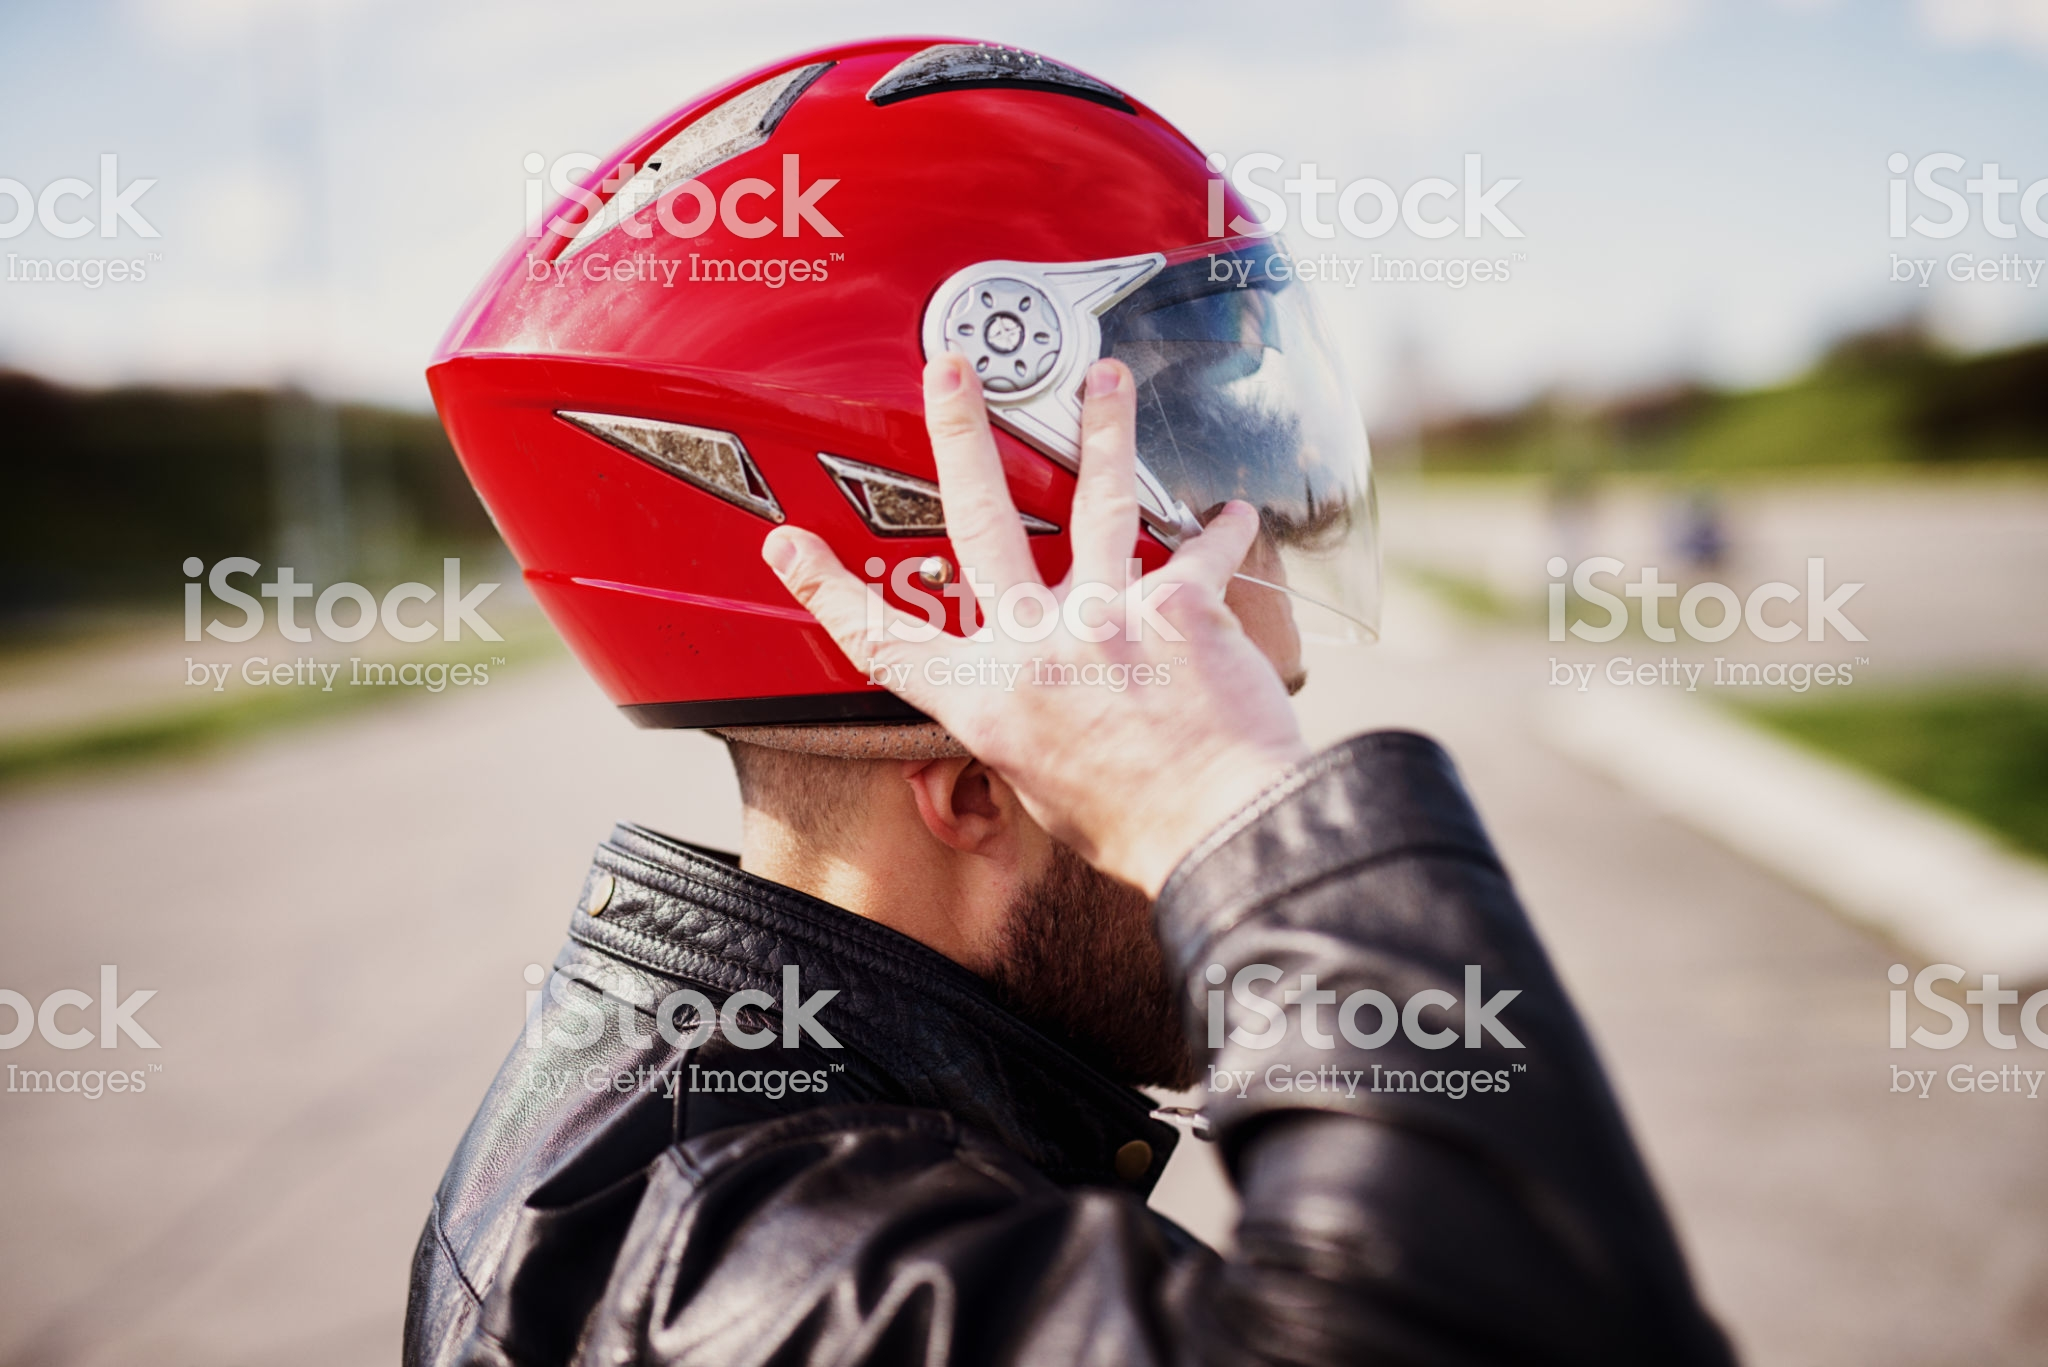helmet: (425, 69, 1385, 677)
